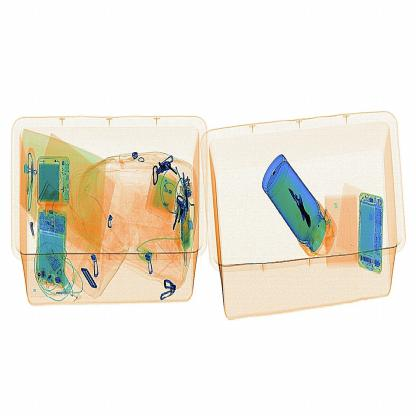wrench: (287, 181, 324, 236)
